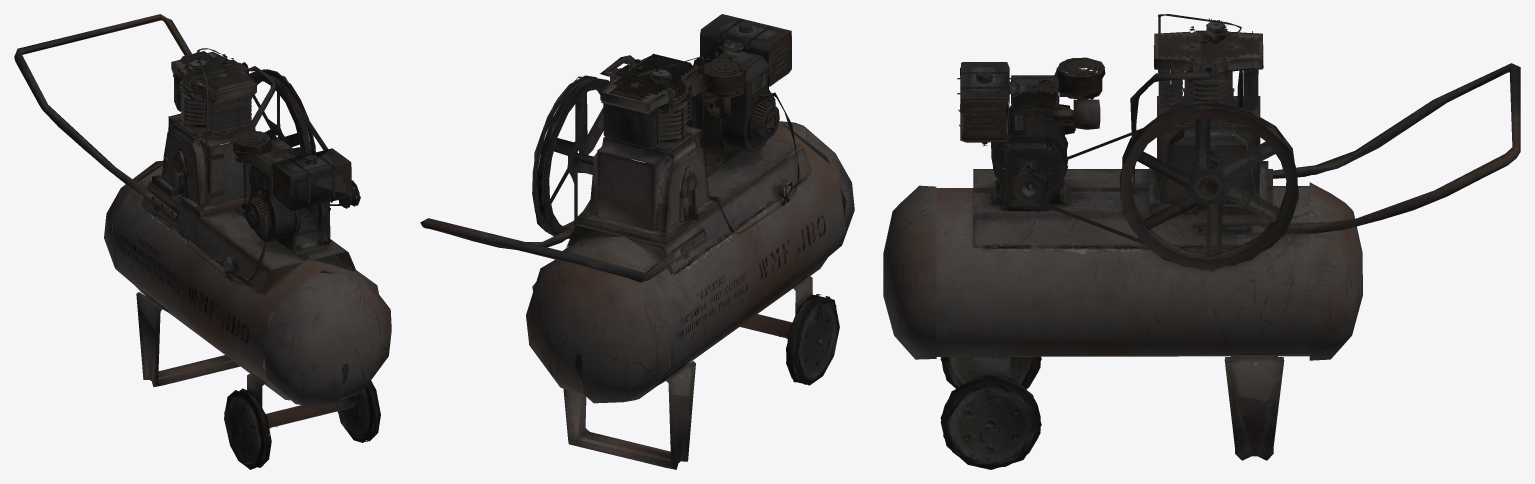
The model's file is old_compressor.glb.
3 renders of one model, left to right at view 1: azimuth 30°, elevation 25°; view 2: azimuth 150°, elevation 25°; view 3: azimuth 270°, elevation 25°, orthographic. The views are drawn at different scales.
Visible parts, largest first — view 1: old_compressor; view 2: old_compressor; view 3: old_compressor.
Boxes of the visible parts, x1,y1,x2,y2 form: old_compressor: (14,14,391,469); old_compressor: (420,14,854,469); old_compressor: (883,14,1520,469).
Size of the model in its own units: 0.748 by 1.48 by 2.09.
Materials: 2 (2 with a texture image).
